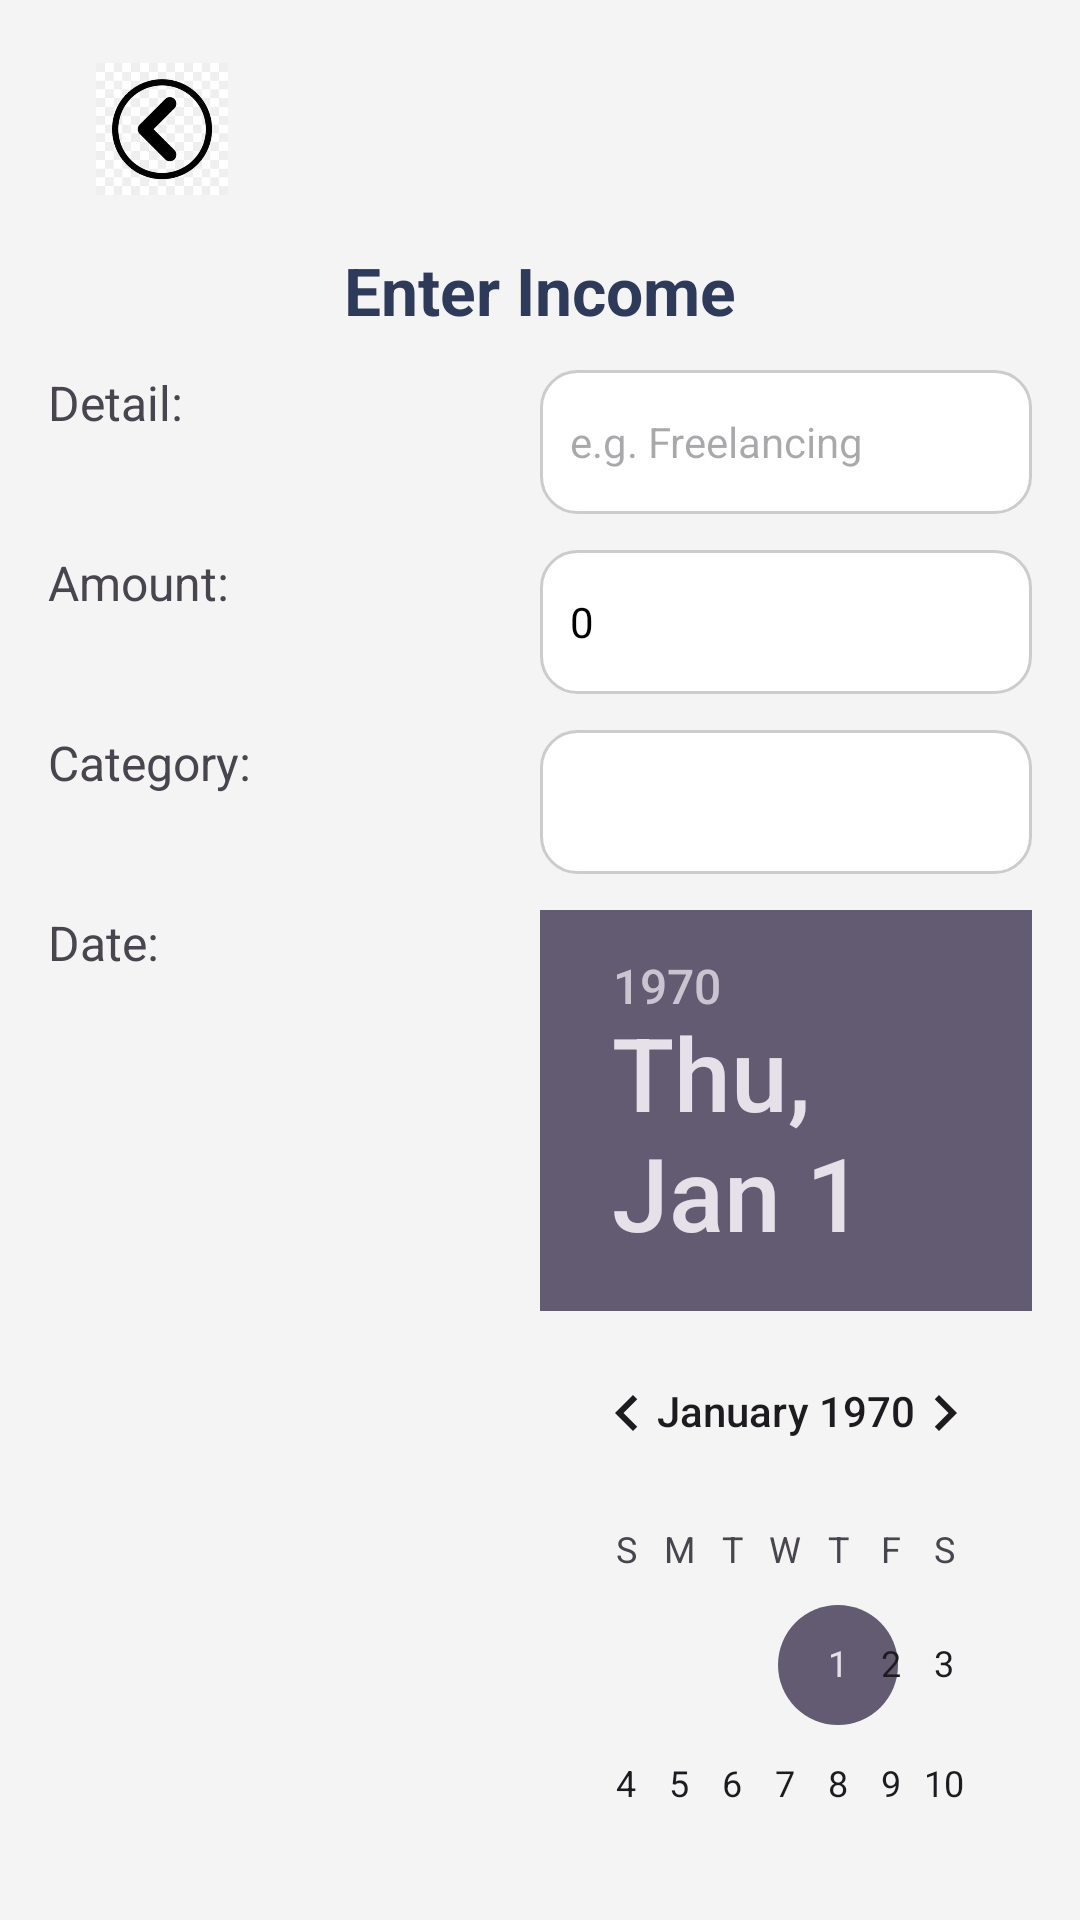

Where icons sit on this 1080*1920 app screen, as [left=x1, top=y1, right=x2, bottom=y2]:
back: [left=112, top=79, right=212, bottom=179]
